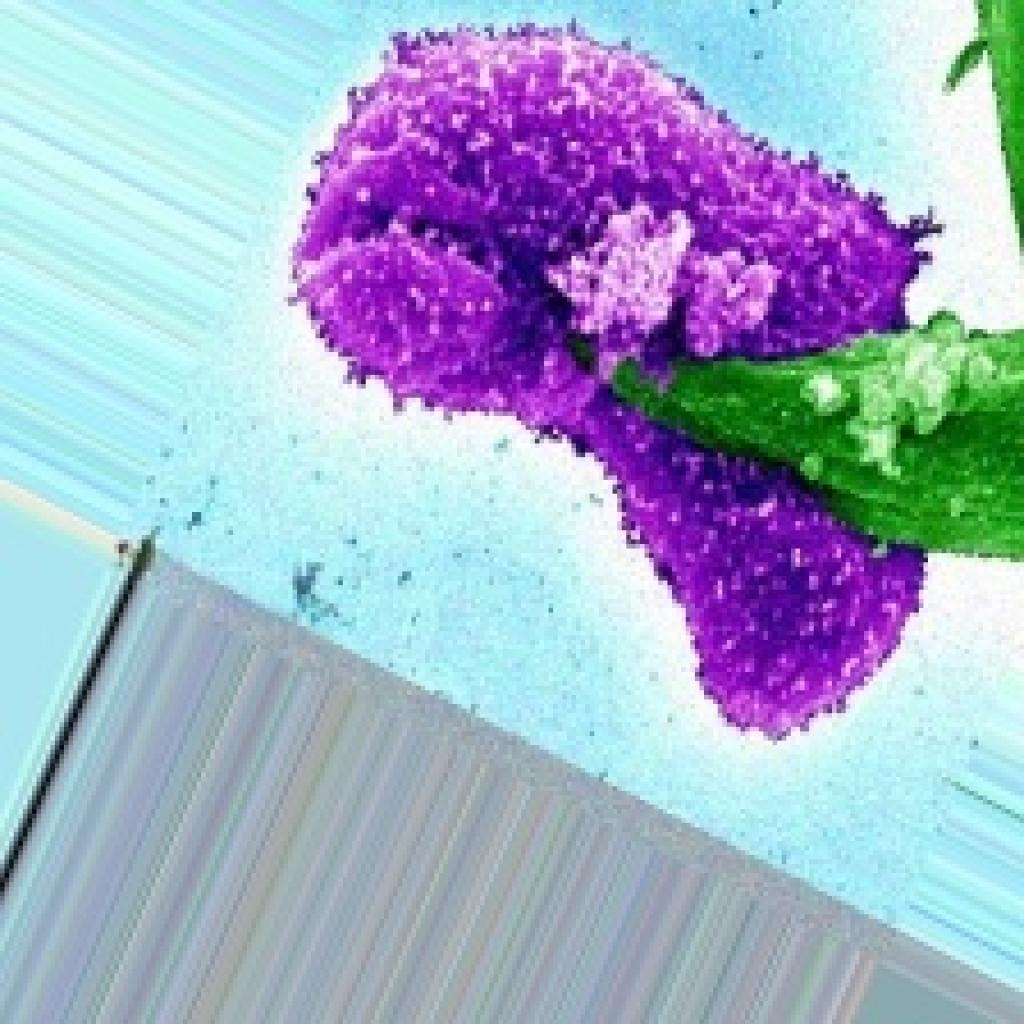Amoeba: (284, 14, 946, 740)
